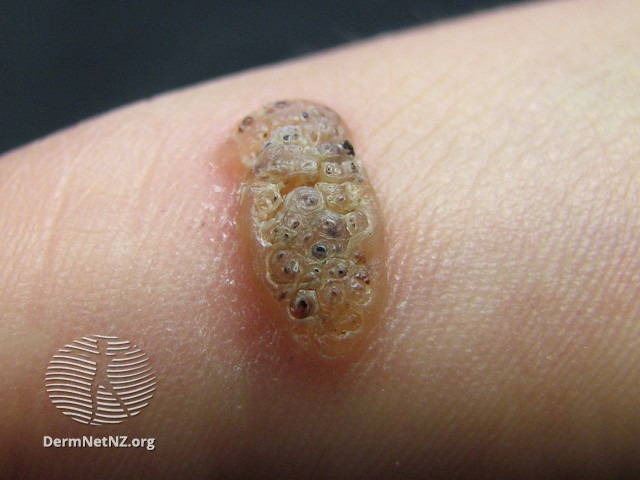Warts: (216, 92, 405, 376)
